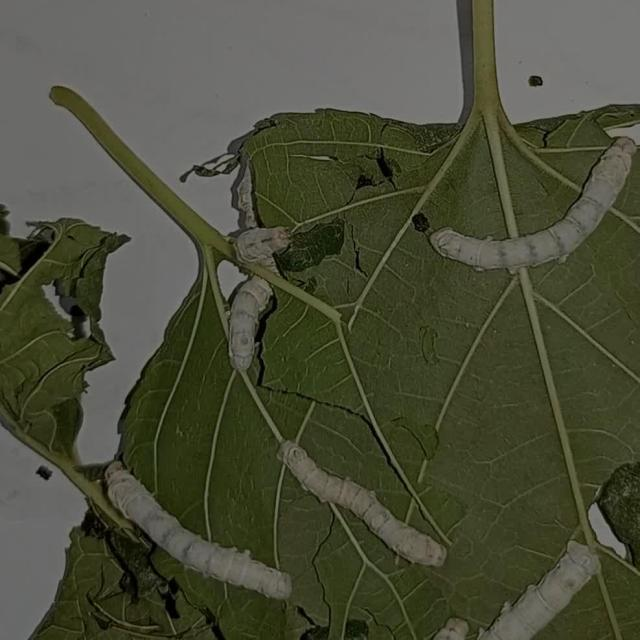Healthy: (52, 426, 471, 604), (408, 122, 640, 285)
